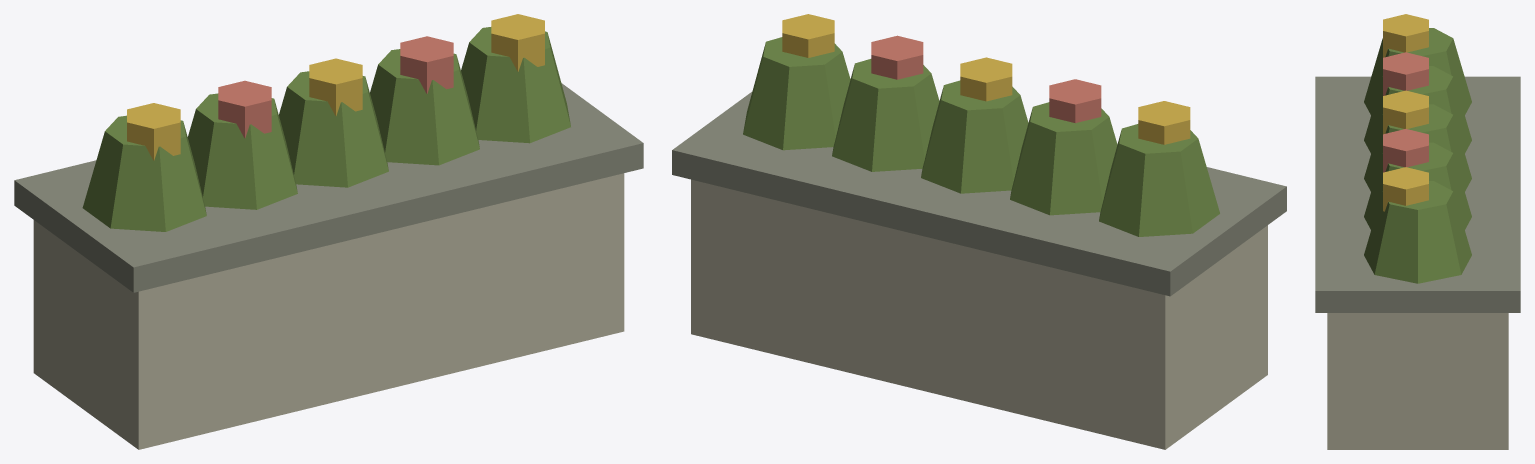
The model's file is capital-planter.glb.
3 views of the same model, side by side, from view 1: azimuth 30°, elevation 25°; view 2: azimuth 150°, elevation 25°; view 3: azimuth 270°, elevation 25° (orthographic). The views are drawn at different scales.
Visible parts, largest first — view 1: Building; view 2: Building; view 3: Building.
Part boxes in pixels (x1,y1,x2,y2): Building: (14,14,643,449); Building: (672,14,1286,449); Building: (1315,14,1520,449).
Bounding box in the file's own units: 42 × 22.5 × 17.
